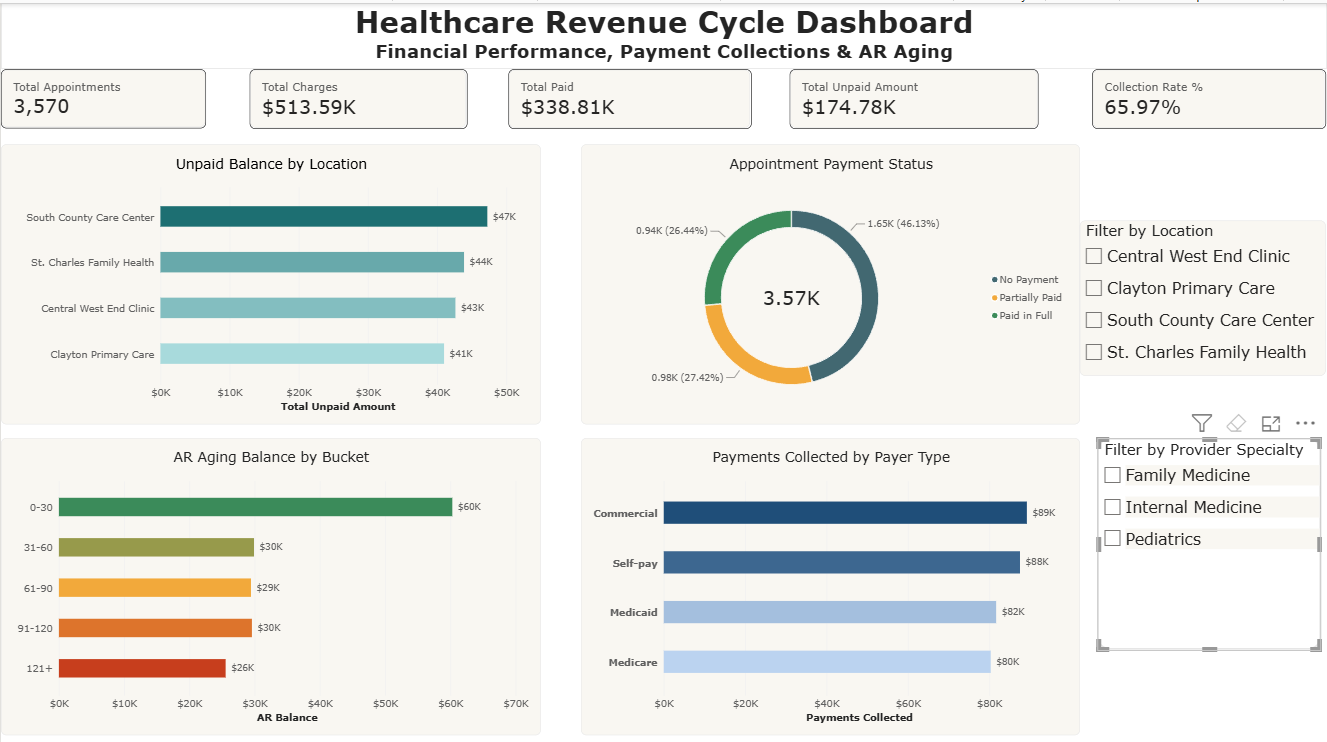

The page's visual inventory and layout, read from the dashboard file:
{"tool":"powerbi","page":{"name":"Page 1","canvas":[1920,1080],"ordinal":0},"visuals":[{"type":"cardVisual","fields":{"Data":["appointment_financials.total charges"]},"box":[360.2,96.8,314.9,86.4],"z":4000},{"type":"cardVisual","fields":{"Data":["appointment_financials.Total Appointments"]},"box":[0,96.8,297.2,85.6],"z":4001},{"type":"cardVisual","fields":{"Data":["appointment_financials.Total unpaid balance"]},"box":[1141.5,96.8,360.2,86.4],"z":4002},{"type":"cardVisual","fields":{"Data":["appointment_financials.Collection Rate %"]},"box":[1580.5,96.8,339.6,86.4],"z":4003},{"type":"cardVisual","fields":{"Data":["appointment_financials.Total paid"]},"box":[734,96.8,352,86.4],"z":4004},{"type":"clusteredBarChart","title":"Unpaid Balance by Location","fields":{"Category":["appointment_financials.location_name"],"Y":["appointment_financials.Total unpaid balance"]},"box":[0,204.9,781.2,405.3],"z":4005},{"type":"donutChart","title":"Appointment Payment Status","fields":{"Category":["appointment_financials.payment_status"],"Y":["CountNonNull(appointment_financials.appointment_id)"]},"box":[839.8,204.9,722.7,405.3],"z":4006},{"type":"clusteredBarChart","title":"AR Aging Balance by Bucket","fields":{"Category":["ar_aging_latest.aging_bucket"],"Y":["Sum(ar_aging_latest.balance_amount)"]},"box":[0,630.4,781.2,430],"z":4007},{"type":"clusteredBarChart","title":"Payments Collected by Payer Type","fields":{"Category":["appointment_financials.payer_type"],"Y":["appointment_financials.Total paid"]},"box":[839.8,630.4,722.7,430],"z":4008},{"type":"slicer","fields":{"Values":["appointment_financials.location_name"]},"box":[1562.5,315.2,358,225.1],"z":4009},{"type":"slicer","fields":{"Values":["appointment_financials.specialty"]},"box":[1587.2,630.4,324.2,306.2],"z":4010},{"type":"textbox","box":[0,0,1920.5,96.8],"z":4011}]}

Visuals, with their boxes in screenshot pixels (x1, y1, x2, y2), scaled from the page's 1920x1080 canvas onto the 1327x742 screenshot:
cardVisual - appointment_financials.total charges: rect(249, 67, 467, 126)
cardVisual - appointment_financials.Total Appointments: rect(0, 67, 205, 125)
cardVisual - appointment_financials.Total unpaid balance: rect(789, 67, 1038, 126)
cardVisual - appointment_financials.Collection Rate %: rect(1092, 67, 1326, 126)
cardVisual - appointment_financials.Total paid: rect(507, 67, 751, 126)
"Unpaid Balance by Location" clusteredBarChart: rect(0, 141, 540, 419)
"Appointment Payment Status" donutChart: rect(580, 141, 1080, 419)
"AR Aging Balance by Bucket" clusteredBarChart: rect(0, 433, 540, 729)
"Payments Collected by Payer Type" clusteredBarChart: rect(580, 433, 1080, 729)
slicer - appointment_financials.location_name: rect(1080, 217, 1326, 371)
slicer - appointment_financials.specialty: rect(1097, 433, 1321, 643)
textbox: rect(0, 0, 1326, 67)
